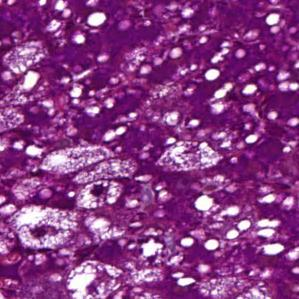ballooning: (10, 203, 81, 254), (39, 142, 118, 179)
